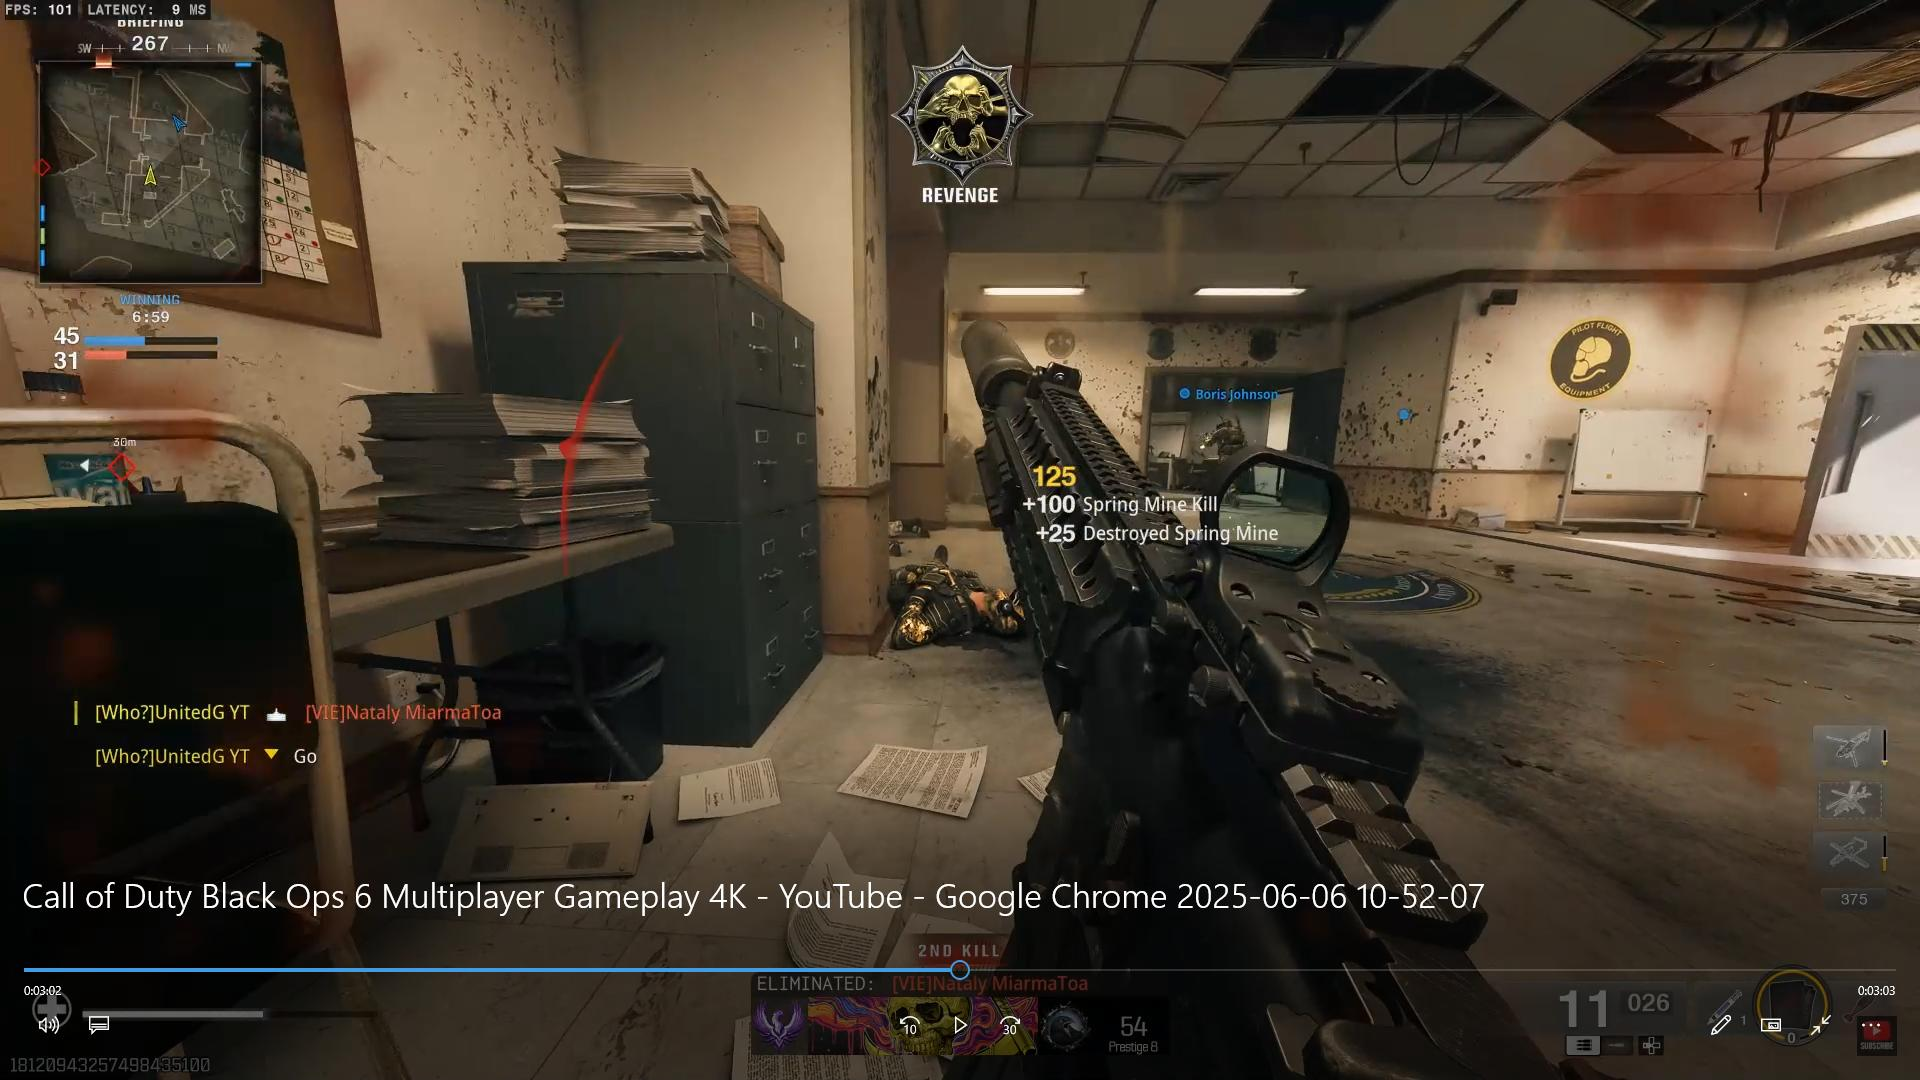Enemy: (1200, 407, 1251, 458)
